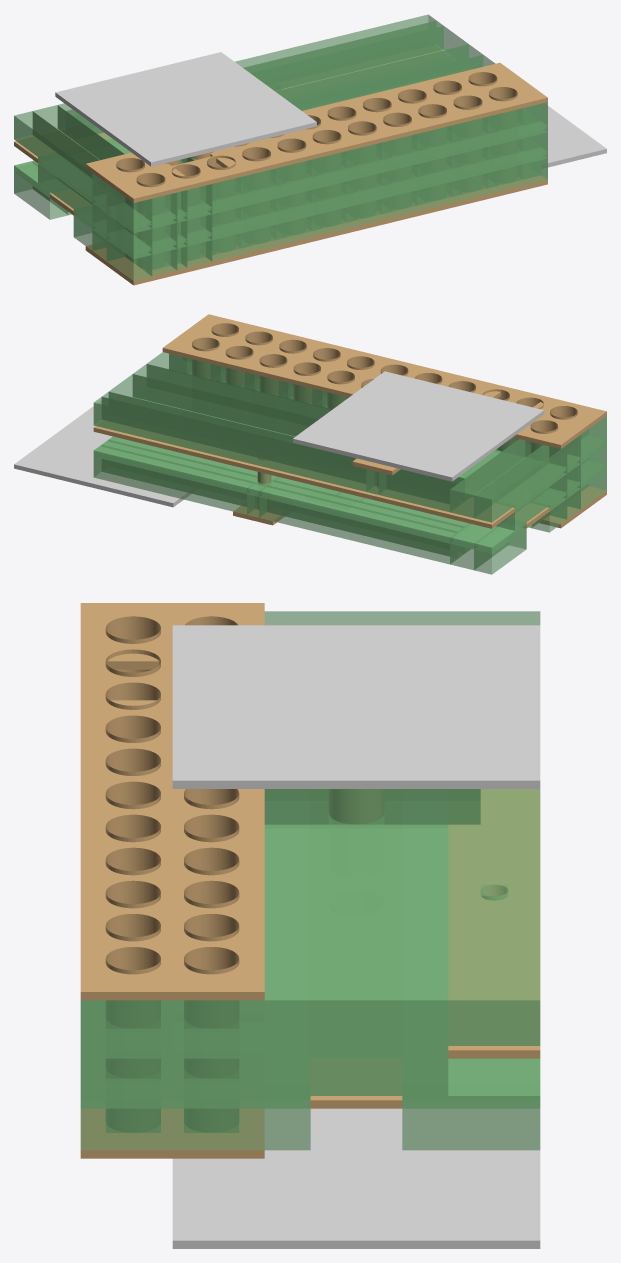
Rendered from board.glb.
3 views of the same model, one above another, from view 1: azimuth 30°, elevation 25°; view 2: azimuth 150°, elevation 25°; view 3: azimuth 270°, elevation 25° (orthographic). The views are drawn at different scales.
Parts seen in each view (by area): view 1: Substrate_Layer_0_Z6, U1, Substrate_Layer_0_Z0, Substrate_Layer_1_Z0, Substrate_Layer_0_Z3, Substrate_Layer_4_Z0, Substrate_Layer_0_Z5, Substrate_Layer_0_Z2, Substrate_Layer_0_Z1, Substrate_Layer_0_Z4, U2, Substrate_Layer_2_Z0; view 2: Substrate_Layer_0_Z6, U1, Substrate_Layer_0_Z0, Substrate_Layer_1_Z0, Substrate_Layer_0_Z2, Substrate_Layer_0_Z1, U2, Substrate_Layer_2_Z0, Substrate_Layer_0_Z3, Substrate_Layer_0_Z5, Substrate_Layer_4_Z0, Substrate_Layer_0_Z4 (+2 smaller); view 3: Substrate_Layer_0_Z6, U1, Substrate_Layer_0_Z5, U2, Substrate_Layer_1_Z0, Substrate_Layer_2_Z0, Substrate_Layer_0_Z0, Substrate_Layer_0_Z3, Substrate_Layer_0_Z2, Substrate_Layer_0_Z1, Substrate_Layer_4_Z0, Substrate_Layer_0_Z4 (+17 smaller).
Boxes of the visible parts, x1=… form: Substrate_Layer_0_Z6: x1=14, y1=14, x2=547, y2=226; U1: x1=55, y1=52, x2=316, y2=166; Substrate_Layer_0_Z0: x1=14, y1=155, x2=547, y2=280; Substrate_Layer_1_Z0: x1=85, y1=62, x2=547, y2=202; Substrate_Layer_0_Z3: x1=38, y1=129, x2=547, y2=252; Substrate_Layer_4_Z0: x1=85, y1=175, x2=547, y2=285; Substrate_Layer_0_Z5: x1=38, y1=89, x2=547, y2=228; Substrate_Layer_0_Z2: x1=14, y1=147, x2=547, y2=254; Substrate_Layer_0_Z1: x1=14, y1=153, x2=547, y2=259; Substrate_Layer_0_Z4: x1=38, y1=127, x2=547, y2=233; U2: x1=548, y1=106, x2=606, y2=167; Substrate_Layer_2_Z0: x1=14, y1=50, x2=441, y2=162; Substrate_Layer_0_Z6: x1=93, y1=352, x2=606, y2=522; U1: x1=293, y1=371, x2=544, y2=481; Substrate_Layer_0_Z0: x1=93, y1=454, x2=606, y2=574; Substrate_Layer_1_Z0: x1=162, y1=314, x2=606, y2=448; Substrate_Layer_0_Z2: x1=93, y1=436, x2=606, y2=549; Substrate_Layer_0_Z1: x1=93, y1=437, x2=606, y2=553; U2: x1=14, y1=397, x2=191, y2=507; Substrate_Layer_2_Z0: x1=93, y1=426, x2=514, y2=528; Substrate_Layer_0_Z3: x1=256, y1=444, x2=606, y2=530; Substrate_Layer_0_Z5: x1=132, y1=371, x2=606, y2=507; Substrate_Layer_4_Z0: x1=539, y1=486, x2=606, y2=528; Substrate_Layer_0_Z4: x1=514, y1=440, x2=606, y2=511; Substrate_Layer_0_Z6: x1=80, y1=611, x2=540, y2=1045; U1: x1=172, y1=625, x2=540, y2=788; Substrate_Layer_0_Z5: x1=80, y1=816, x2=508, y2=1050; U2: x1=172, y1=1108, x2=540, y2=1248; Substrate_Layer_1_Z0: x1=80, y1=603, x2=264, y2=1000; Substrate_Layer_2_Z0: x1=448, y1=789, x2=540, y2=1058; Substrate_Layer_0_Z0: x1=80, y1=1100, x2=540, y2=1150; Substrate_Layer_0_Z3: x1=80, y1=1050, x2=448, y2=1095; Substrate_Layer_0_Z2: x1=80, y1=1058, x2=540, y2=1100; Substrate_Layer_0_Z1: x1=80, y1=1059, x2=540, y2=1108; Substrate_Layer_4_Z0: x1=80, y1=1108, x2=264, y2=1158; Substrate_Layer_0_Z4: x1=80, y1=1046, x2=448, y2=1058.
Bounding box in the file's own units: 0.012 × 0.00235 × 0.005.
